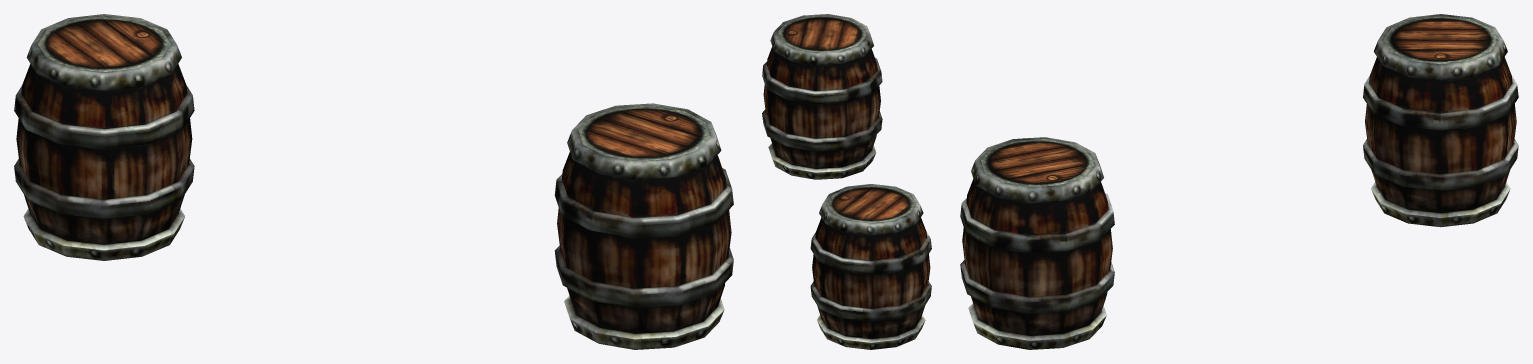
File: PUSH1_BARRELS.fbx
3 views of the same model, side by side, from view 1: azimuth 30°, elevation 25°; view 2: azimuth 150°, elevation 25°; view 3: azimuth 270°, elevation 25° (orthographic). The views are drawn at different scales.
Visible parts, largest first — view 1: PUSH1_BARRELS; view 2: PUSH1_BARRELS; view 3: PUSH1_BARRELS.
Part boxes in pixels (x1=…): PUSH1_BARRELS: x1=14, y1=14, x2=733, y2=349; PUSH1_BARRELS: x1=762, y1=14, x2=931, y2=349; PUSH1_BARRELS: x1=960, y1=14, x2=1518, y2=349.
Bounding box in the file's own units: 23287 × 9241 × 28237.
2 materials, 2 textured.
